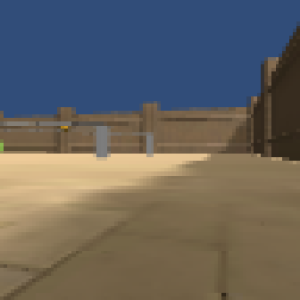goodGoal: (1, 140, 6, 153)
goodGoalMulti: (60, 122, 71, 133)
wall: (94, 124, 110, 159), (145, 132, 155, 155)
